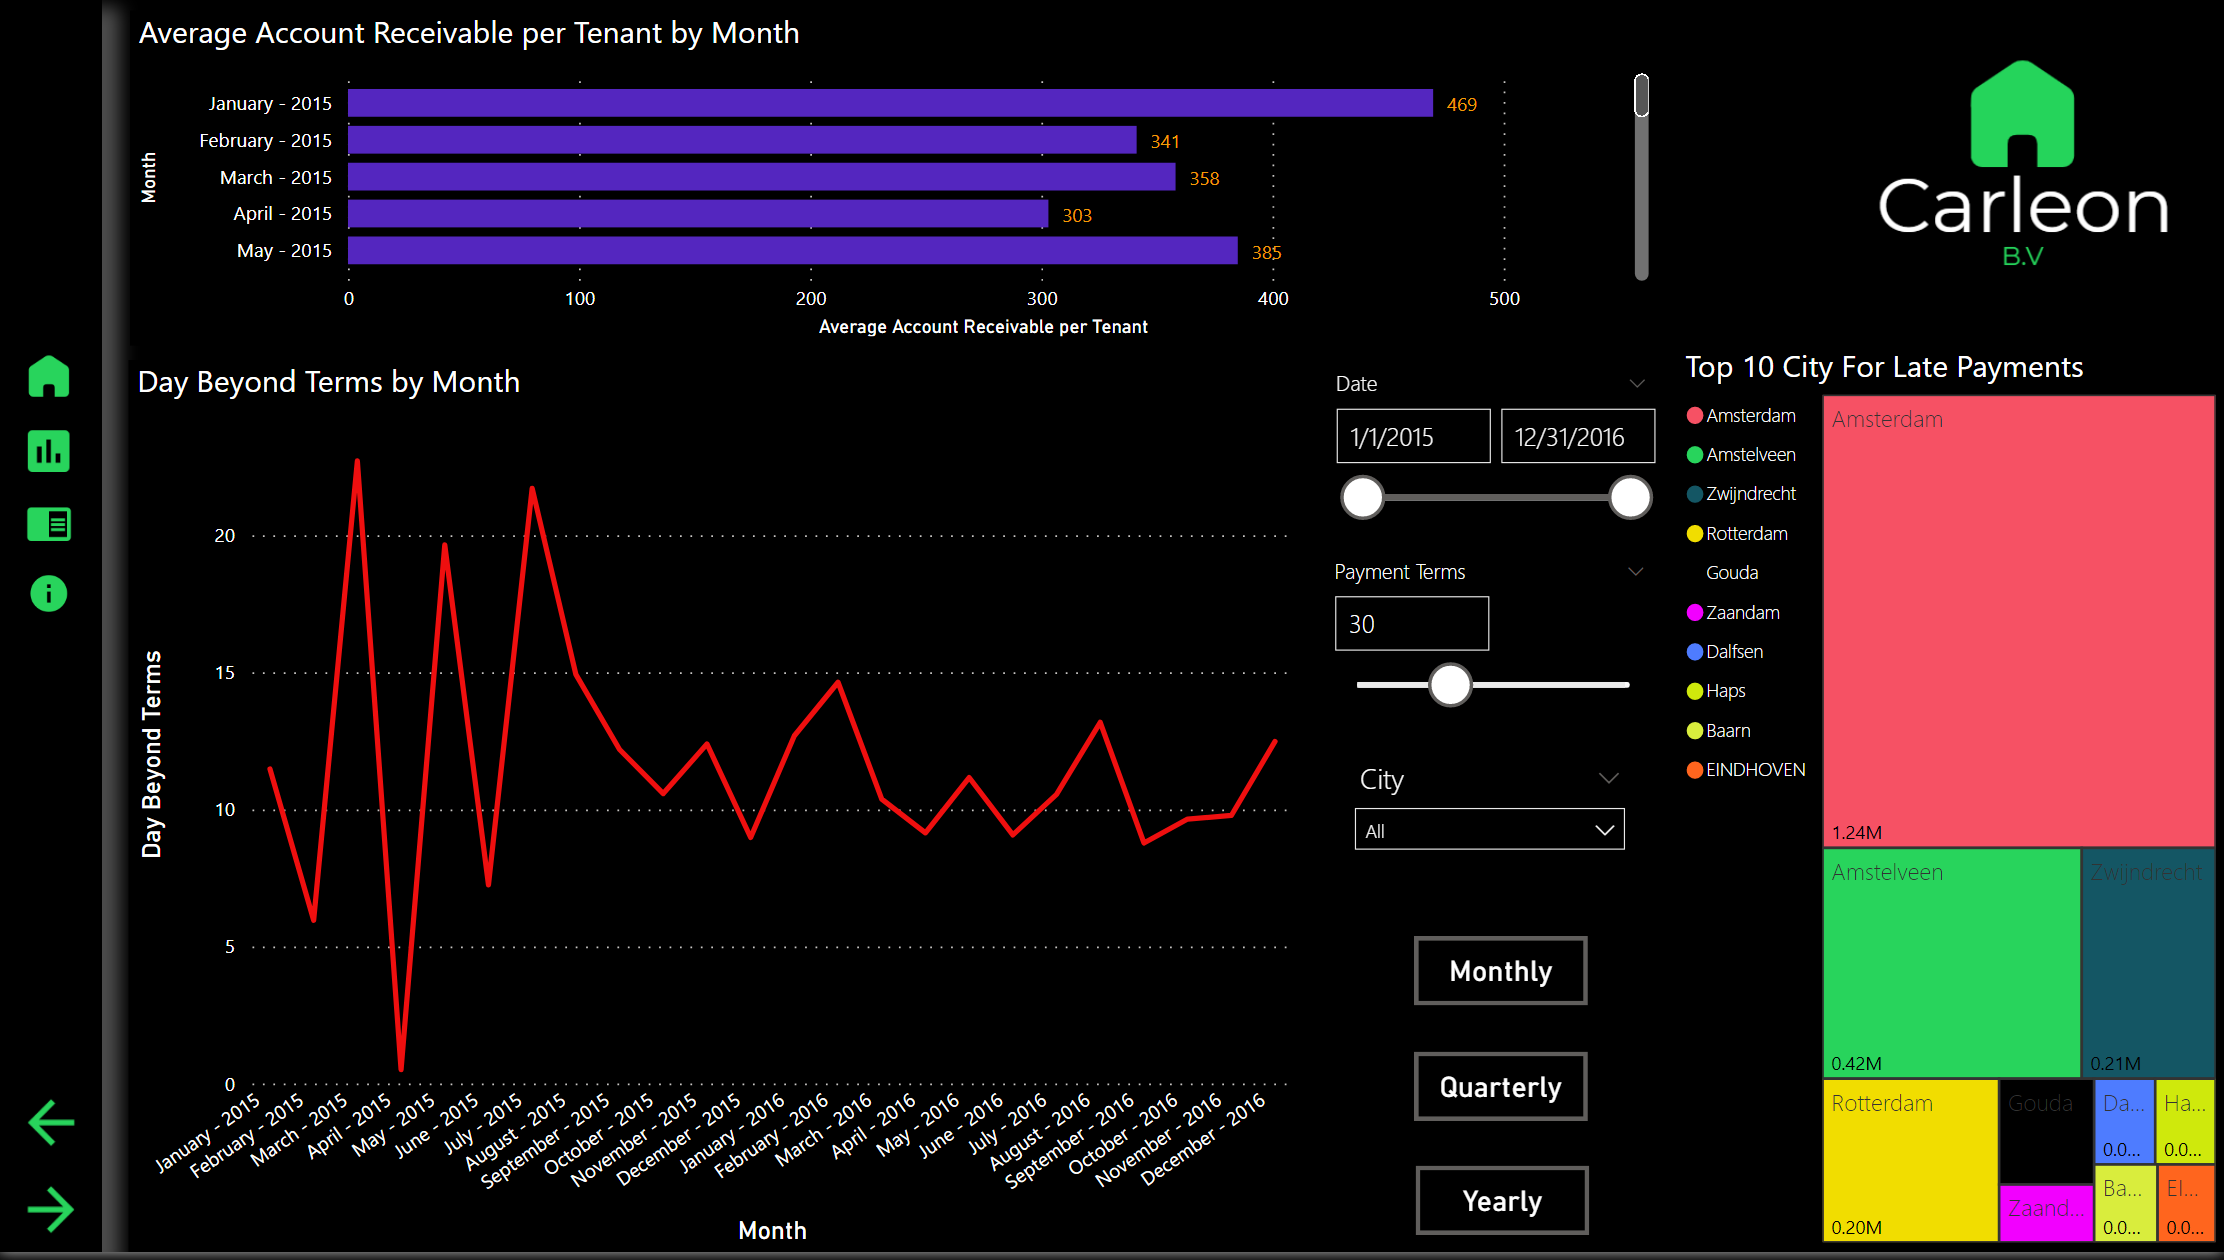

The dashboard page shown, as its layout file describes it:
{"tool":"powerbi","page":{"name":"Statistics","canvas":[1280,720],"ordinal":1},"visuals":[{"type":"group","id":"g1","title":"Group 2","box":[0,0,59.9,720.2],"z":0},{"type":"group","id":"g2","title":"Group 3","box":[0,0,59.9,720.2],"z":0,"group":"g1"},{"type":"basicShape","box":[0,0,59.9,720.1],"z":0,"group":"g2"},{"type":"slicer","fields":{"Values":["paymentTerms.paymentTerms"]},"box":[755.6,314.8,203.6,99.2],"z":0,"group":"g3"},{"type":"image","box":[1074.7,12.1,182,167.3],"z":1000},{"type":"image","box":[12.1,198.4,34.5,37.1],"z":1000,"group":"g2"},{"type":"actionButton","box":[814.3,538.2,100.2,39.9],"z":1000,"group":"g3"},{"type":"image","box":[5.2,620.2,50,50],"z":1000,"group":"g1"},{"type":"treemap","title":"Top 10 City For Late Payments","fields":{"Group":["dimCust.City"],"Values":["_Measures.Late Payment"]},"box":[965.2,198.4,314.8,521],"z":2000},{"type":"image","box":[7.8,238.1,42.3,43.1],"z":2000,"group":"g2"},{"type":"actionButton","box":[814.3,604.4,100.2,39.9],"z":2000,"group":"g3"},{"type":"lineChart","fields":{"Y":["_Measures.DBT"],"Category":["dimDates.dMonth","dimDates.dQuarter","dimDates.Year"]},"box":[75,207,674.5,513.2],"z":3000},{"type":"slicer","fields":{"Values":["dimDates.Date"]},"box":[756.5,207,203.6,107.8],"z":3000,"group":"g3"},{"type":"image","box":[10.4,281.2,38,39.7],"z":3000,"group":"g2"},{"type":"group","id":"g3","title":"Group 5","box":[755.6,207,204.4,502.9],"z":4000},{"type":"image","box":[11.2,322.6,35.4,37.1],"z":4000,"group":"g2"},{"type":"slicer","fields":{"Values":["dimCust.City"]},"box":[770.3,431.3,175.1,69.9],"z":4000,"group":"g3"},{"type":"barChart","fields":{"Category":["dimDates.dMonth"],"Y":["_Measures.AR Monthly per Tenant"]},"box":[75.9,6,878.1,192.3],"z":5000},{"type":"image","box":[5.2,670.2,50,50],"z":5000,"group":"g2"},{"type":"actionButton","box":[815.1,670.3,100.2,39.9],"z":5000,"group":"g3"}]}

Visuals, with their boxes in screenshot pixels (x1, y1, x2, y2), scaled from the page's 1280x720 canvas onto the 2224x1260 screenshot:
"Group 2" group: x1=0 y1=0 x2=104 y2=1259
"Group 3" group: x1=0 y1=0 x2=104 y2=1259
basicShape: x1=0 y1=0 x2=104 y2=1259
slicer - paymentTerms.paymentTerms: x1=1313 y1=551 x2=1667 y2=724
image: x1=1867 y1=21 x2=2184 y2=314
image: x1=21 y1=347 x2=81 y2=412
actionButton: x1=1415 y1=942 x2=1589 y2=1012
image: x1=9 y1=1085 x2=96 y2=1173
"Top 10 City For Late Payments" treemap: x1=1677 y1=347 x2=2223 y2=1259
image: x1=14 y1=417 x2=87 y2=492
actionButton: x1=1415 y1=1058 x2=1589 y2=1128
lineChart - _Measures.DBT x dimDates.dMonth: x1=130 y1=362 x2=1302 y2=1259
slicer - dimDates.Date: x1=1314 y1=362 x2=1668 y2=551
image: x1=18 y1=492 x2=84 y2=562
"Group 5" group: x1=1313 y1=362 x2=1668 y2=1242
image: x1=19 y1=565 x2=81 y2=629
slicer - dimCust.City: x1=1338 y1=755 x2=1643 y2=877
barChart - dimDates.dMonth x _Measures.AR Monthly per Tenant: x1=132 y1=10 x2=1658 y2=347
image: x1=9 y1=1173 x2=96 y2=1259
actionButton: x1=1416 y1=1173 x2=1590 y2=1243
